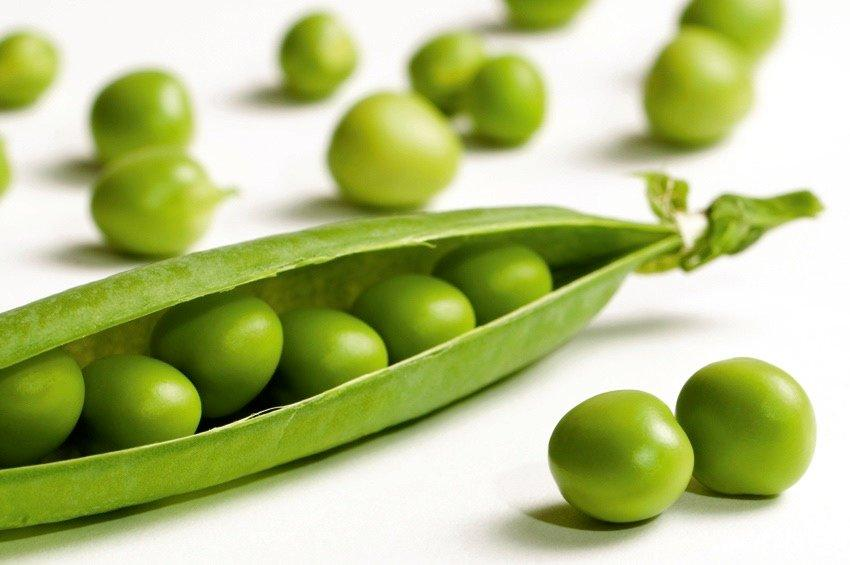peas: (1, 0, 786, 257), (0, 234, 574, 464), (0, 201, 676, 370), (547, 355, 816, 524), (326, 29, 546, 208), (547, 388, 694, 524), (675, 355, 816, 496), (326, 89, 462, 209), (89, 148, 237, 258), (643, 25, 753, 146), (254, 242, 426, 315), (0, 347, 85, 465), (88, 68, 193, 163), (0, 29, 58, 196), (454, 53, 546, 148), (277, 12, 357, 99), (407, 30, 486, 115), (678, 0, 784, 60), (61, 307, 159, 368), (0, 30, 58, 111), (502, 0, 588, 29)
